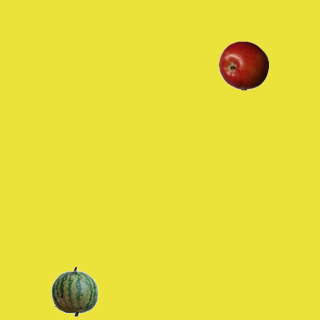Apple Braeburn: (218, 40, 268, 90)
Watermelon: (49, 266, 99, 316)
